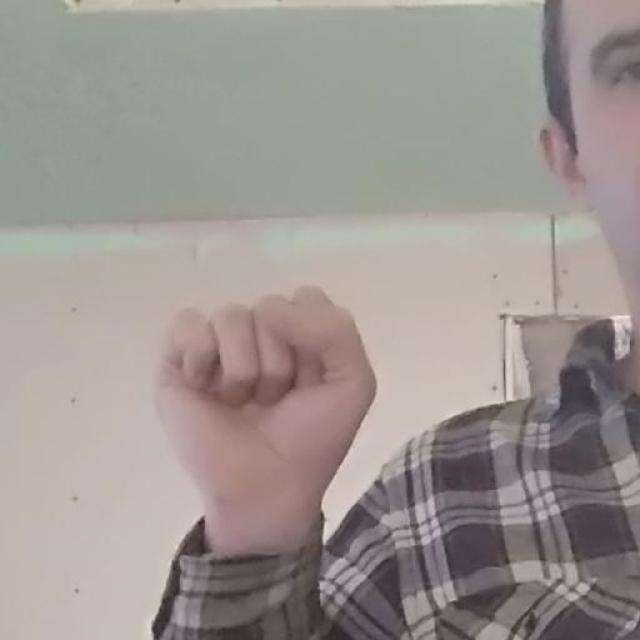hand: (154, 278, 380, 508)
